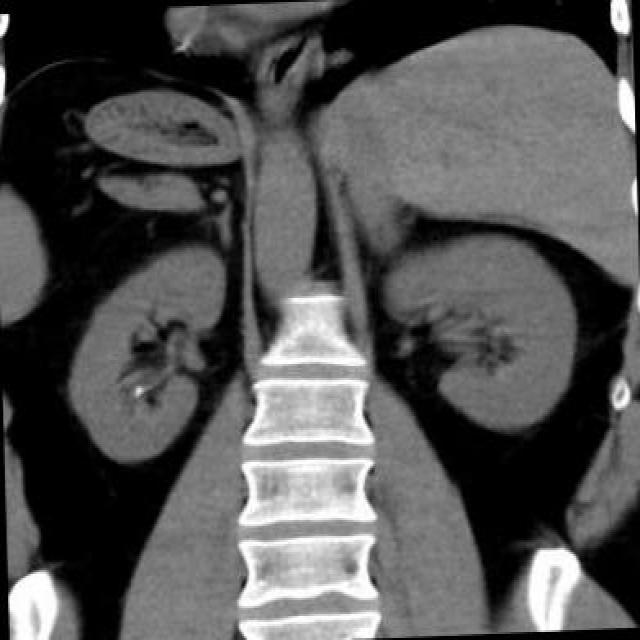Tas_Var: (132, 382, 146, 400)
